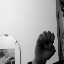e: (33, 29, 57, 63)
